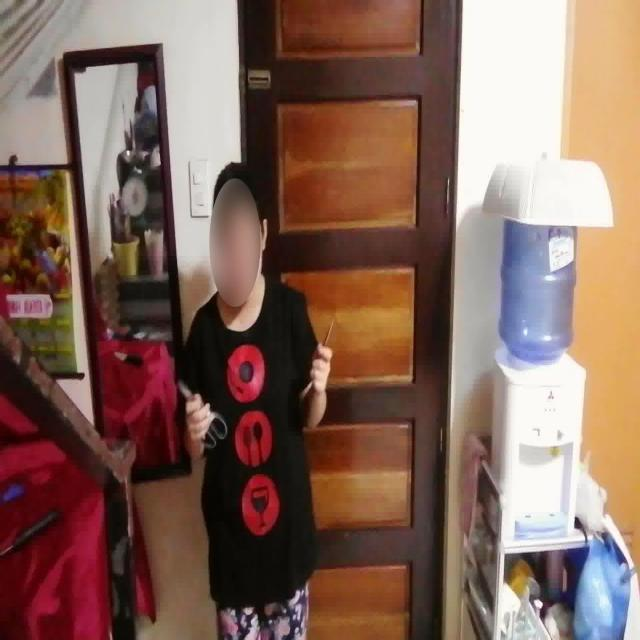scissor: (179, 379, 228, 451)
